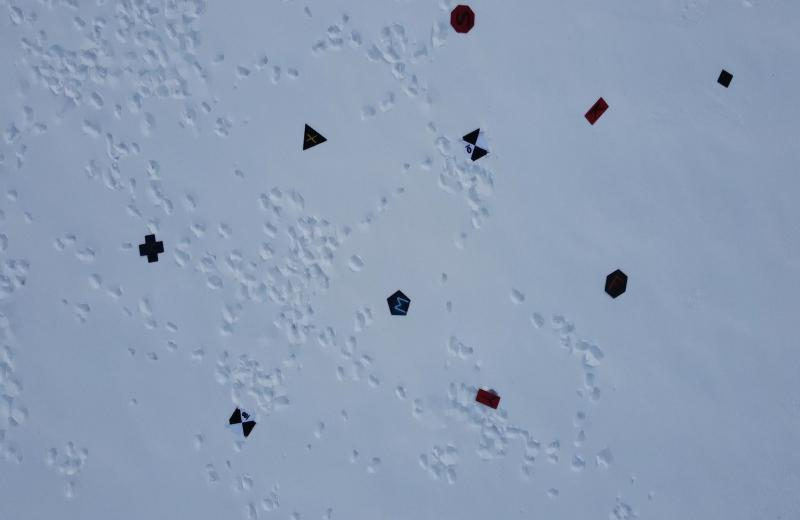Cross: (136, 230, 168, 264)
Hexagon: (601, 267, 632, 303)
Pentagon: (383, 285, 413, 320)
Rectangle: (581, 97, 612, 131), (470, 382, 503, 412)
Square: (711, 68, 735, 92)
Triangle: (297, 121, 329, 154)
